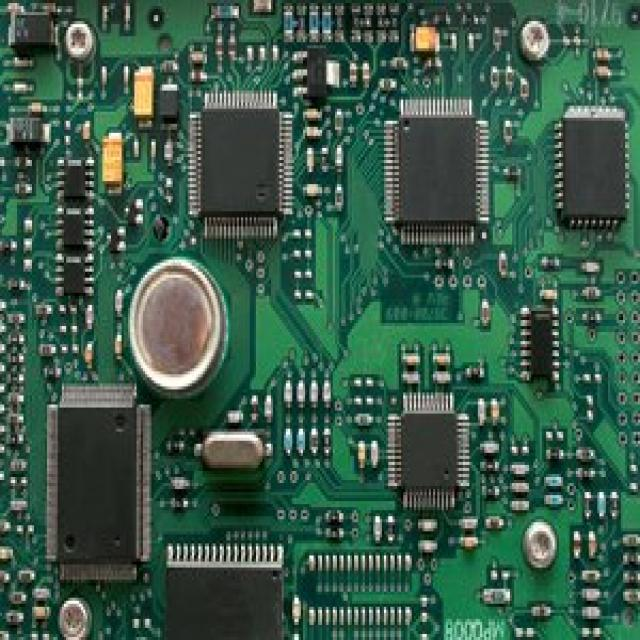pcb: (0, 0, 638, 637), (45, 380, 151, 580), (382, 93, 491, 244), (386, 386, 469, 511)
